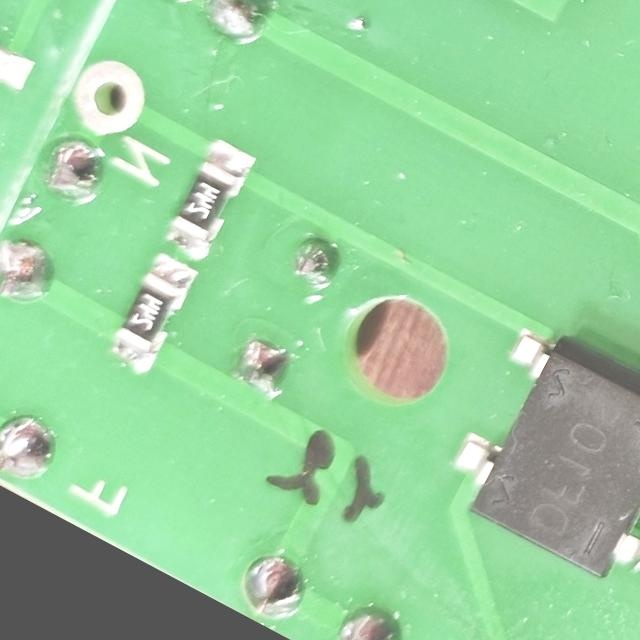chip-resistor: (156, 131, 262, 265), (98, 249, 203, 382)
ic: (429, 309, 640, 622), (0, 0, 54, 229)
